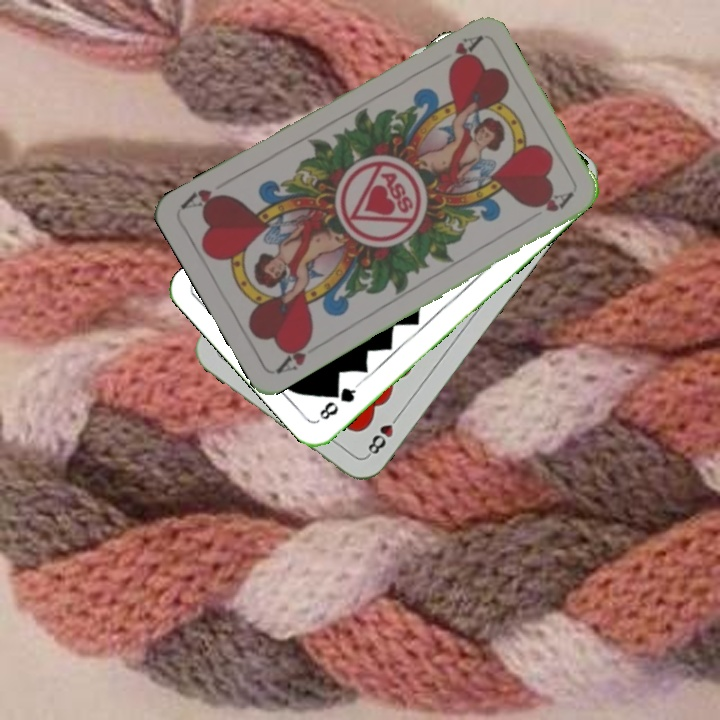G8: (315, 379, 362, 423)
H8: (362, 409, 403, 460)
HA: (429, 32, 484, 69), (272, 332, 317, 377)
